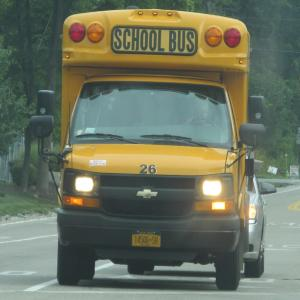Vehicle-registration-plate: (132, 231, 162, 248)
